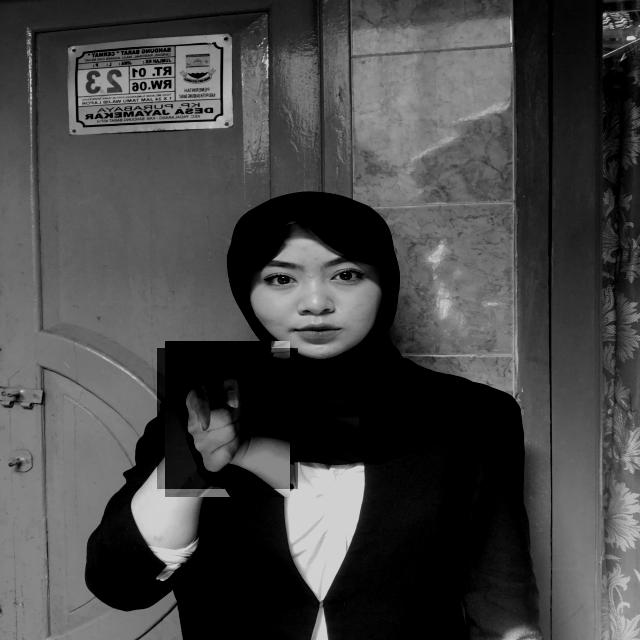kamu: (157, 348, 298, 489)
